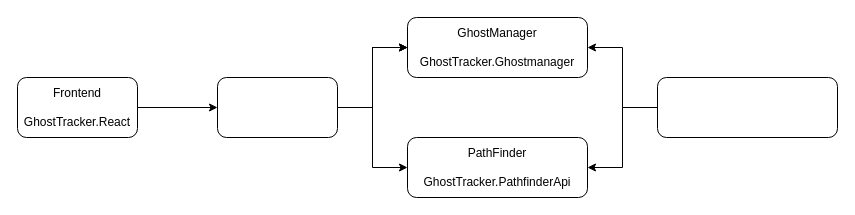
Image size: 855x215. Some labels were removed from this diagram. The shapes that lost their labels are listed below. From the top down, each one's centre as x and y in pixels, then its label:
pixel 277 107: BFF GhostTracker.Bff
pixel 747 107: Transmitter GhostTracker.Transmitter
